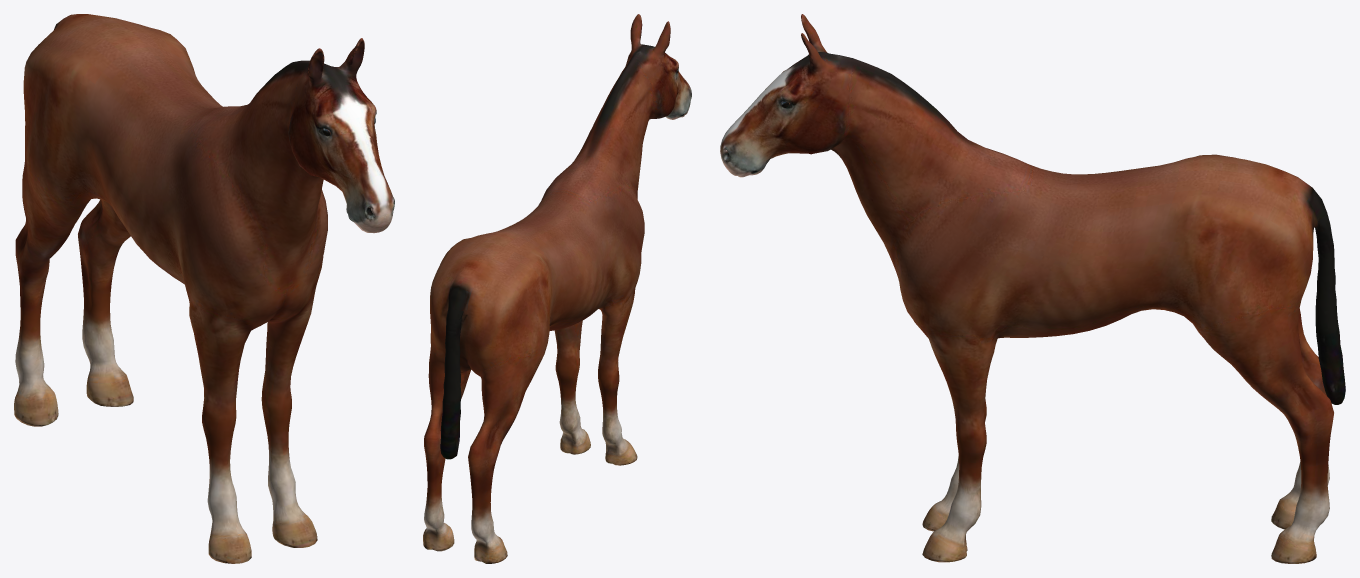
File: horse.glb
The picture shows the model from 3 angles, left to right: view 1: azimuth 30°, elevation 25°; view 2: azimuth 150°, elevation 25°; view 3: azimuth 270°, elevation 25°; orthographic projection. The views are drawn at different scales.
Visible parts, largest first — view 1: Horse-rig; view 2: Horse-rig; view 3: Horse-rig.
Part boxes in pixels (x1=…): Horse-rig: x1=14, y1=14, x2=394, y2=563; Horse-rig: x1=423, y1=14, x2=691, y2=563; Horse-rig: x1=720, y1=14, x2=1345, y2=563.
Bounding box in the file's own units: 0.5298 × 1.91 × 2.1.
3 materials, 3 textured.
